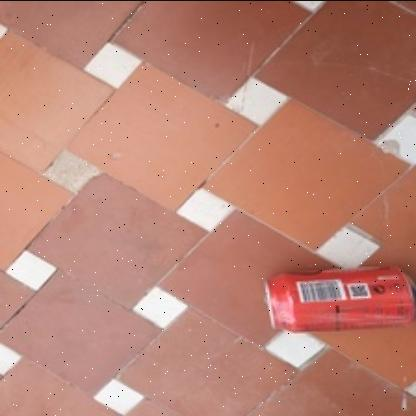Can: (264, 262, 416, 334)
